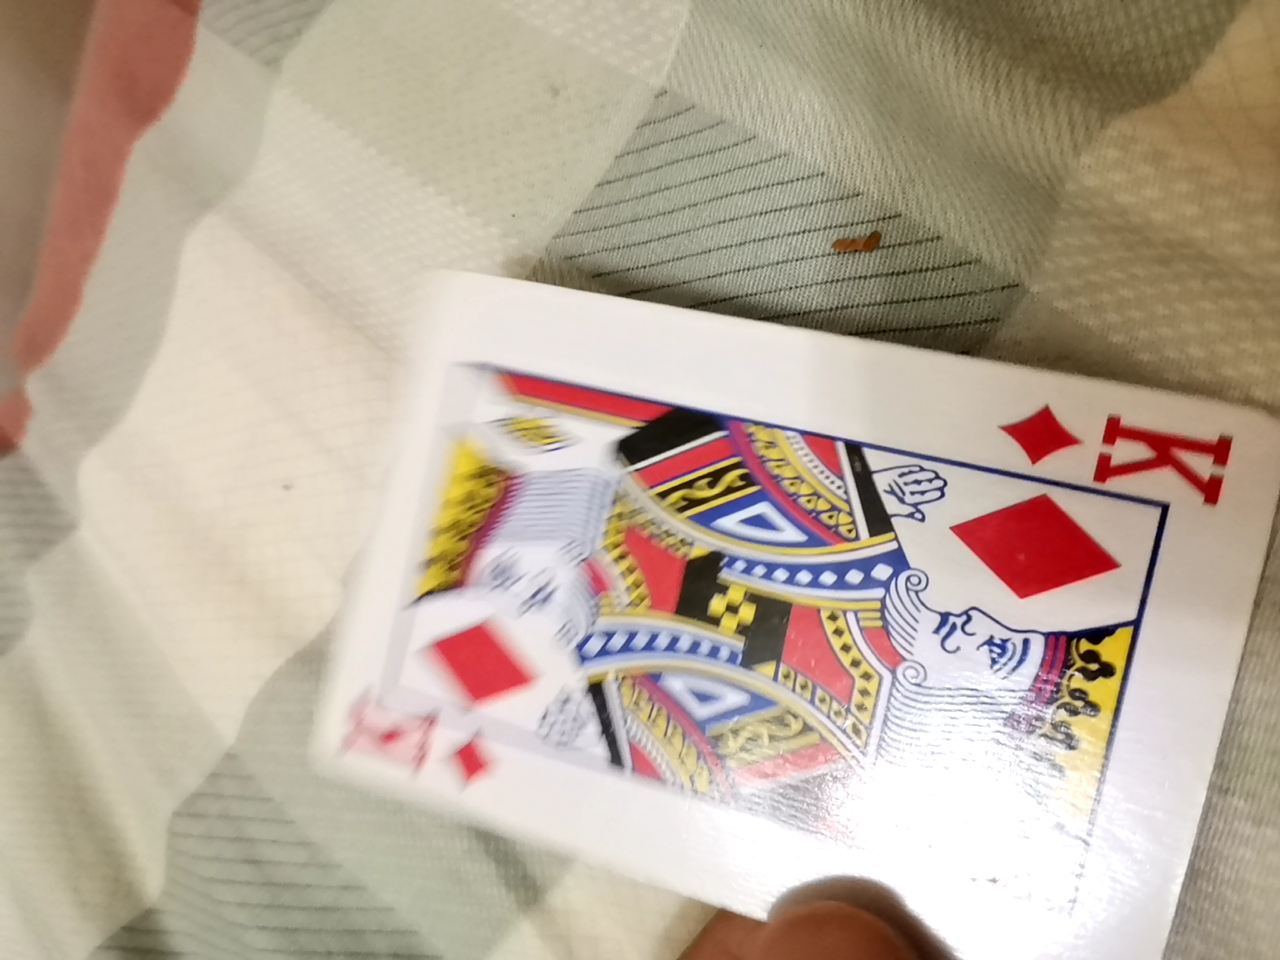fk k: (298, 250, 1265, 952)
